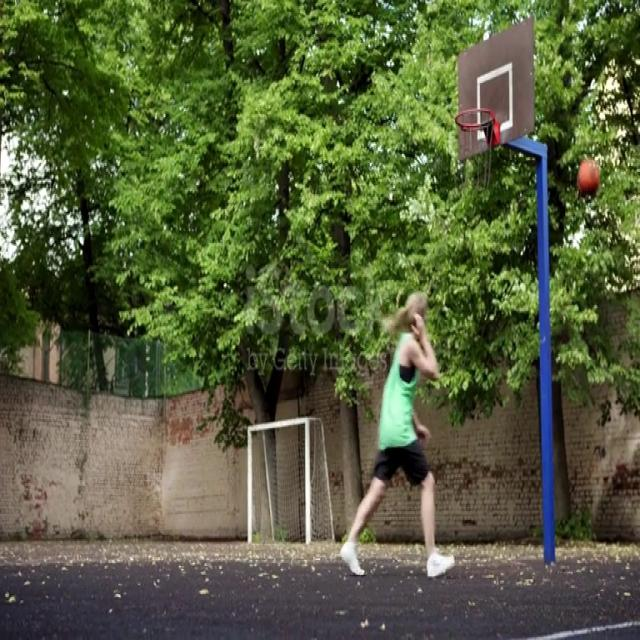ball: (578, 159, 600, 197)
